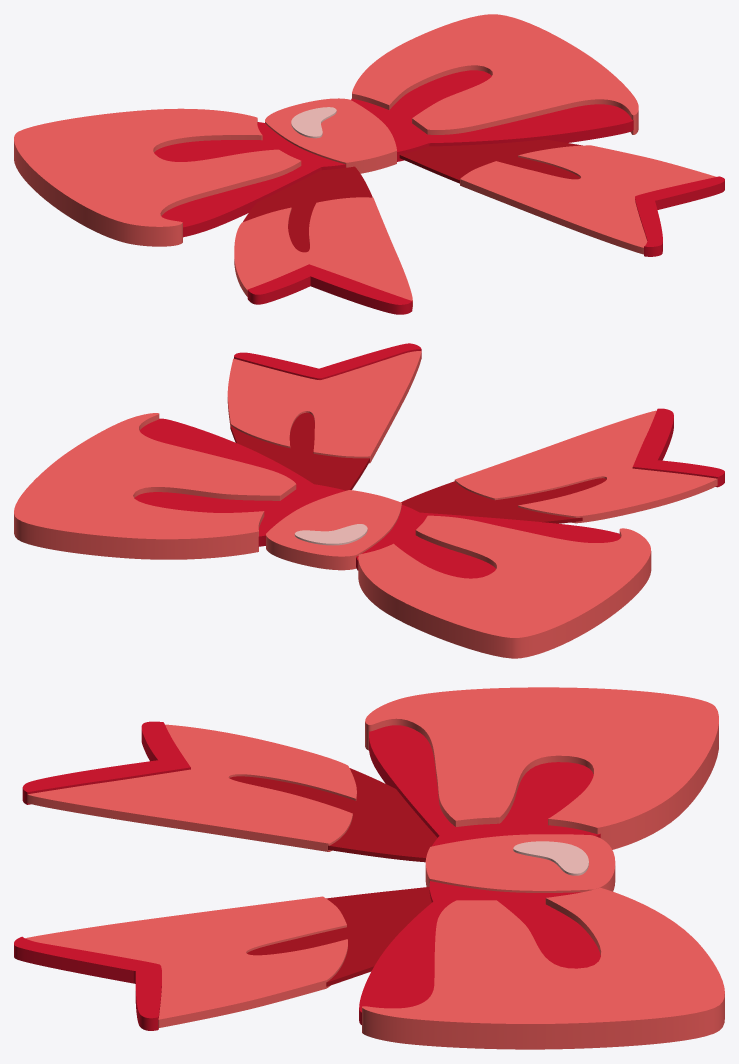
File: emoji_u1f380.glb
3 renders of one model, top to bottom at view 1: azimuth 30°, elevation 25°; view 2: azimuth 150°, elevation 25°; view 3: azimuth 270°, elevation 25°, orthographic. The views are drawn at different scales.
Visible parts, largest first — view 1: emoji_u1f380; view 2: emoji_u1f380; view 3: emoji_u1f380.
Part boxes in pixels (box(x1,y1,x2,y2)): emoji_u1f380: box(14, 14, 724, 314); emoji_u1f380: box(14, 343, 724, 658); emoji_u1f380: box(14, 687, 724, 1049).
Bounding box in the file's own units: 0.0339 × 0.0012 × 0.0303.
